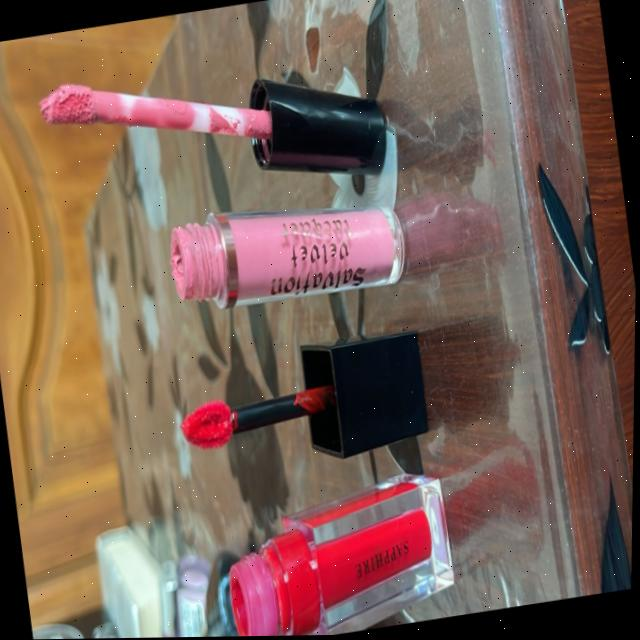brush: (5, 1, 403, 229), (174, 308, 432, 495)
lip gloss: (151, 170, 440, 342), (201, 472, 466, 638)
